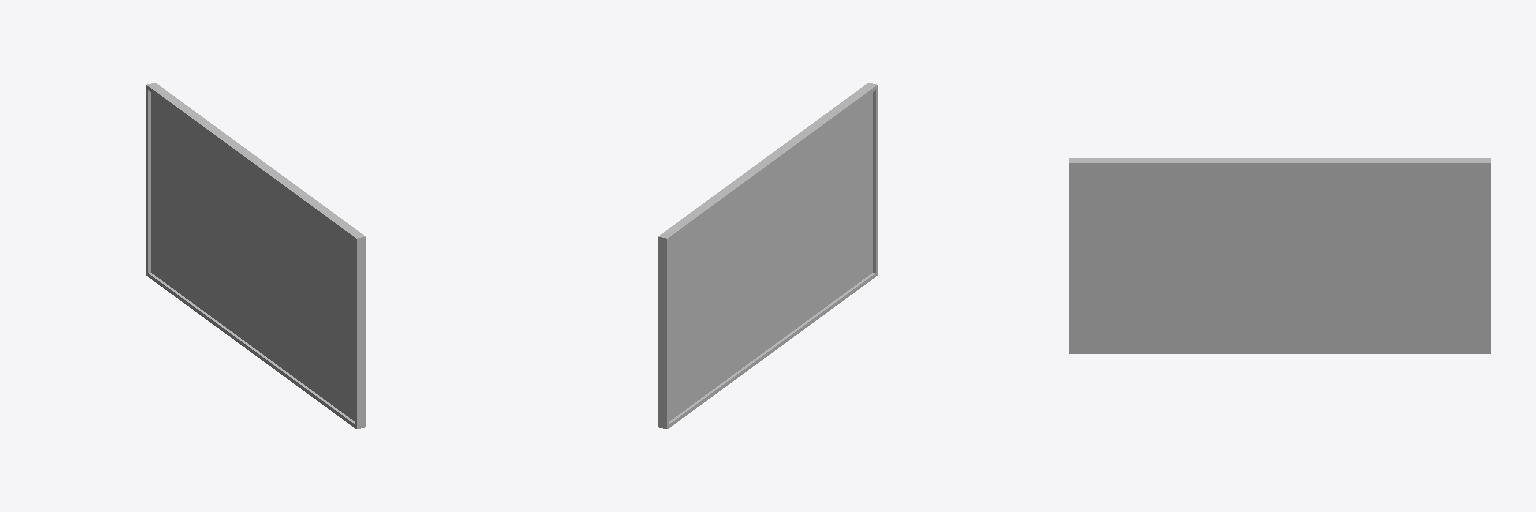
Rendered from xray.obj.
3 renders of one model, left to right at view 1: azimuth 30°, elevation 25°; view 2: azimuth 150°, elevation 25°; view 3: azimuth 270°, elevation 25°, orthographic.
Visible parts, largest first — view 1: Xray_Screen_Cube.002; view 2: Xray_Screen_Cube.002; view 3: Xray_Screen_Cube.002.
Boxes of the visible parts, <box> form: Xray_Screen_Cube.002: <box>146,83,365,428</box>; Xray_Screen_Cube.002: <box>658,83,877,428</box>; Xray_Screen_Cube.002: <box>1069,158,1490,353</box>.
Size of the model in its own units: 0.05 by 1 by 2.